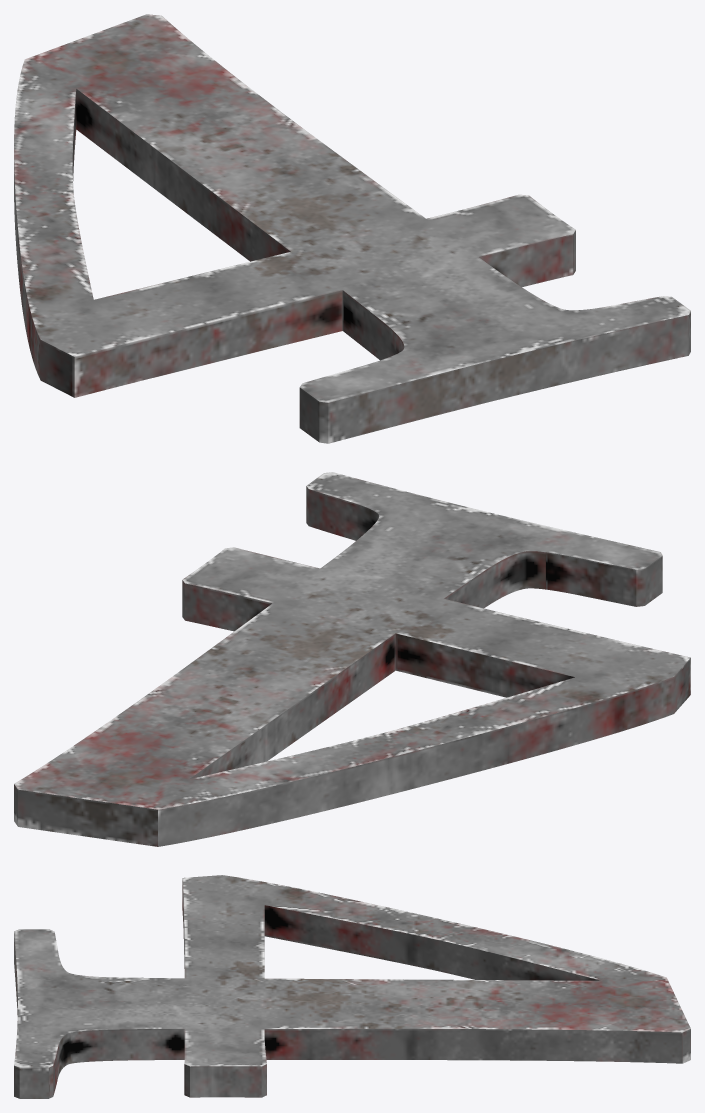
Rendered from counter_num_4.fbx.
The picture shows the model from 3 angles, top to bottom: view 1: azimuth 30°, elevation 25°; view 2: azimuth 150°, elevation 25°; view 3: azimuth 270°, elevation 25°; orthographic projection. The views are drawn at different scales.
Visible parts, largest first — view 1: 4; view 2: 4; view 3: 4.
Part boxes in pixels (<box>): 4: <box>14,14,690,443</box>; 4: <box>14,472,690,846</box>; 4: <box>14,875,690,1098</box>.
Size of the model in its own units: 13.5 by 1.02 by 20.05.
